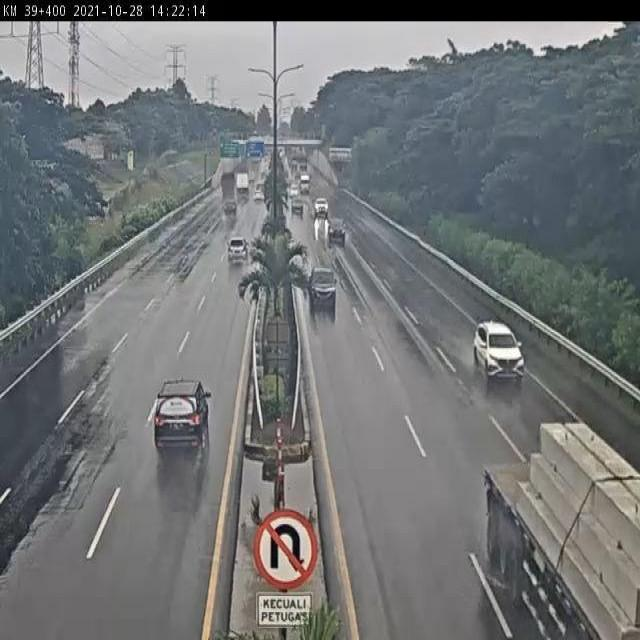car: (155, 376, 211, 448), (472, 322, 526, 378), (305, 266, 338, 310), (225, 234, 250, 266), (327, 215, 349, 244)
